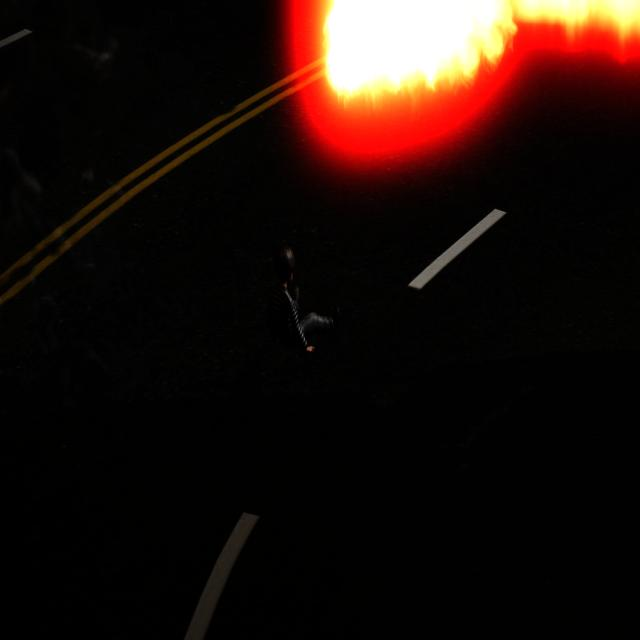Human: (255, 230, 347, 363)
